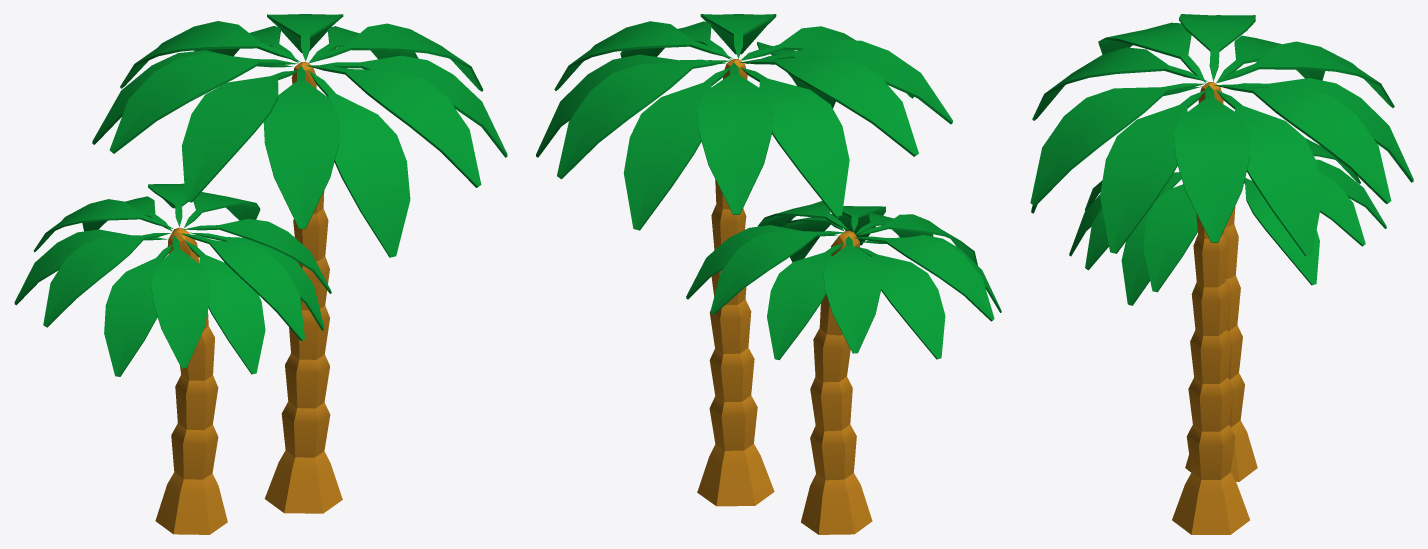
Rendered from Palmera 03 (Modelado).fbx.
3 views of the same model, side by side, from view 1: azimuth 30°, elevation 25°; view 2: azimuth 150°, elevation 25°; view 3: azimuth 270°, elevation 25° (orthographic).
Parts seen in each view (by area): view 1: Palmera_03_Modeelado; view 2: Palmera_03_Modeelado; view 3: Palmera_03_Modeelado.
Boxes of the visible parts, x1,y1,x2,y2 form: Palmera_03_Modeelado: (14,14,507,534); Palmera_03_Modeelado: (536,14,1001,534); Palmera_03_Modeelado: (1030,14,1413,534).
Size of the model in its own units: 2.87 by 2.83 by 2.16.
